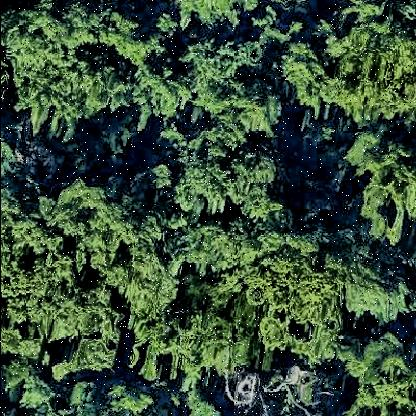tree-top: (6, 3, 135, 141), (283, 17, 416, 125), (248, 232, 351, 366), (84, 188, 180, 306), (156, 130, 288, 214), (1, 215, 78, 331), (180, 41, 278, 131), (348, 129, 416, 249), (340, 332, 416, 416), (127, 308, 209, 384), (178, 219, 257, 285), (196, 284, 264, 358), (342, 253, 412, 322), (128, 67, 192, 123), (1, 358, 59, 416), (106, 383, 157, 416)
